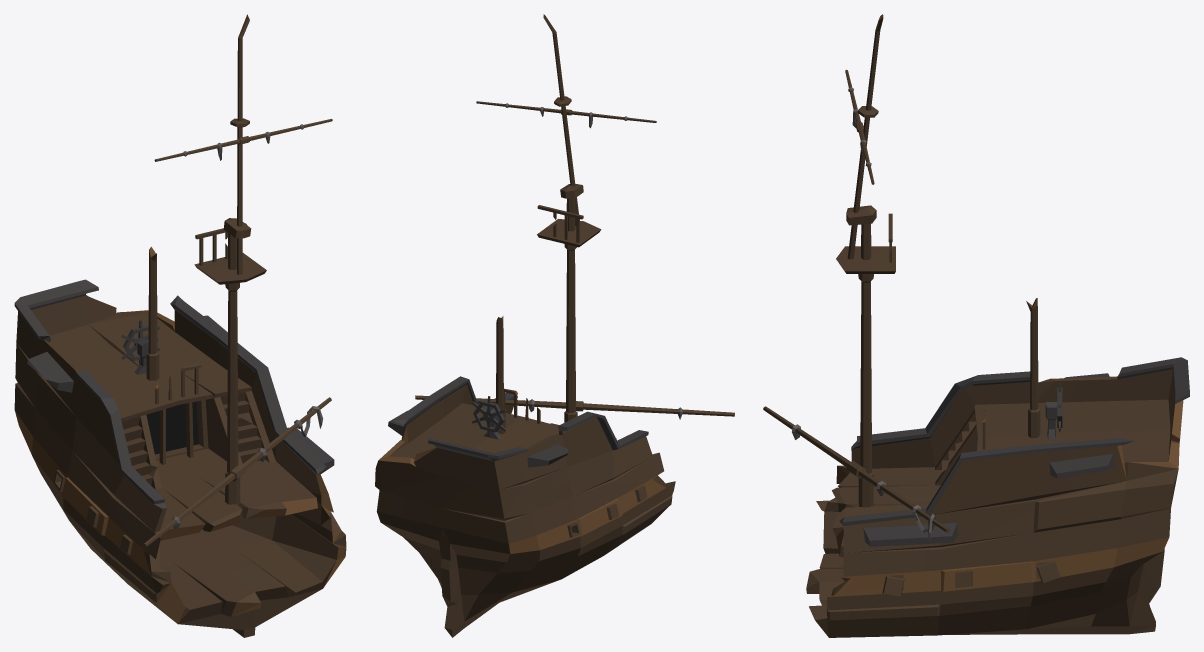
Rendered from pirates_ship-pirate-vreck-back.fbx.
The picture shows the model from 3 angles, left to right: view 1: azimuth 30°, elevation 25°; view 2: azimuth 150°, elevation 25°; view 3: azimuth 270°, elevation 25°; orthographic projection. The views are drawn at different scales.
Visible parts, largest first — view 1: pirates_ship_pirate_vreck_back; view 2: pirates_ship_pirate_vreck_back; view 3: pirates_ship_pirate_vreck_back.
Boxes of the visible parts, x1=… form: pirates_ship_pirate_vreck_back: x1=14, y1=14, x2=346, y2=637; pirates_ship_pirate_vreck_back: x1=375, y1=14, x2=734, y2=637; pirates_ship_pirate_vreck_back: x1=763, y1=14, x2=1189, y2=637.
Bounding box in the file's own units: 95.65 × 200 × 123.
